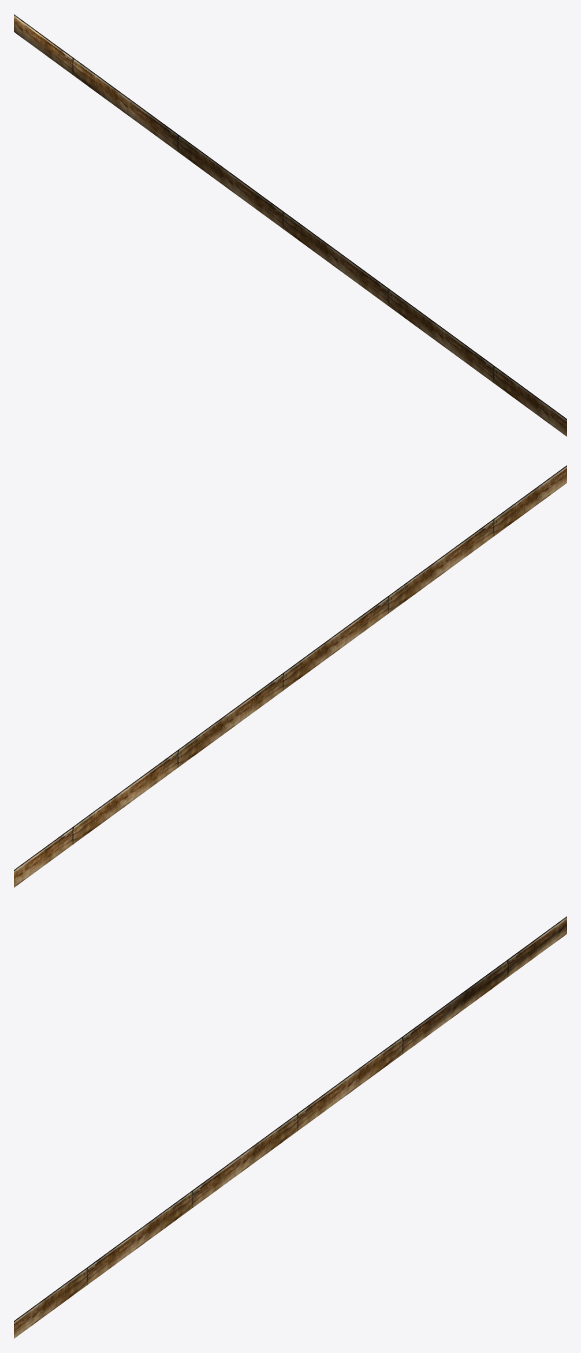
Rendered from LAKETOWN_PUB_PS_PUB_FLOORTRIM373736.fbx.
The picture shows the model from 3 angles, top to bottom: view 1: azimuth 30°, elevation 25°; view 2: azimuth 150°, elevation 25°; view 3: azimuth 330°, elevation 25°; orthographic projection.
Parts seen in each view (by area): view 1: LAKETOWN_PUB_PS_PUB_FLOORTRIM373736; view 2: LAKETOWN_PUB_PS_PUB_FLOORTRIM373736; view 3: LAKETOWN_PUB_PS_PUB_FLOORTRIM373736.
Part boxes in pixels (x1,y1,x2,y2): LAKETOWN_PUB_PS_PUB_FLOORTRIM373736: (14, 14, 566, 436); LAKETOWN_PUB_PS_PUB_FLOORTRIM373736: (14, 465, 566, 887); LAKETOWN_PUB_PS_PUB_FLOORTRIM373736: (14, 916, 566, 1338).
Bounding box in the file's own units: 0.00916 × 1525 × 85630.
1 material, 1 textured.
